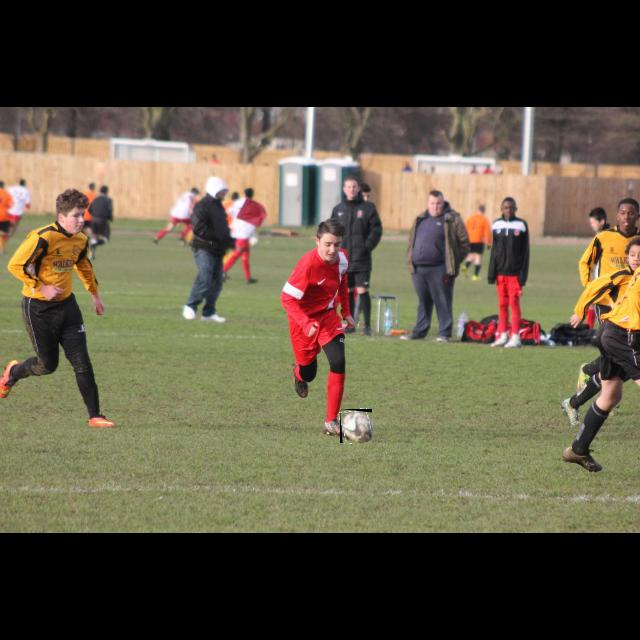Football: (340, 409, 372, 443)
